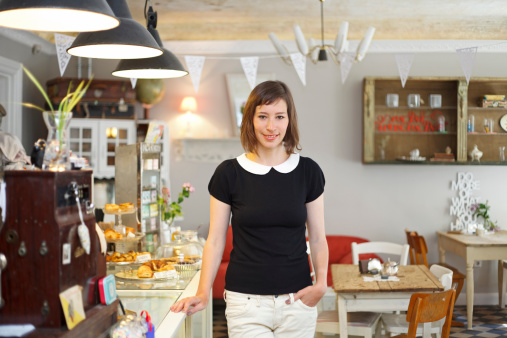em pe: (200, 87, 336, 338)
